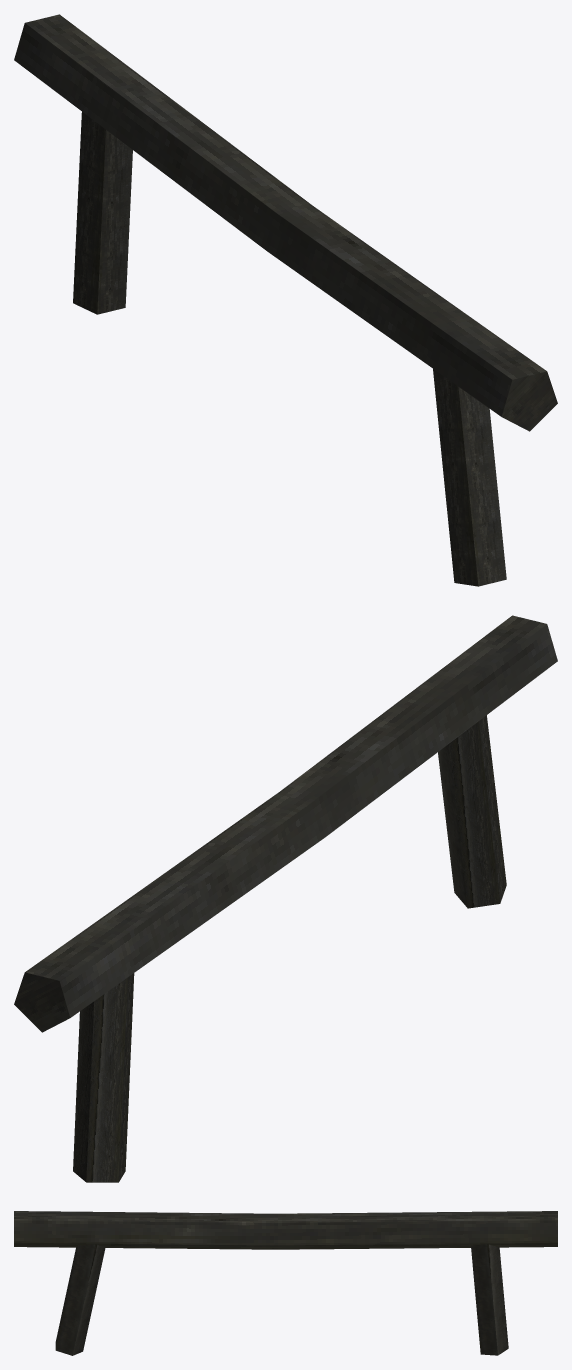
The model's file is fence.glb.
3 renders of one model, top to bottom at view 1: azimuth 30°, elevation 25°; view 2: azimuth 150°, elevation 25°; view 3: azimuth 270°, elevation 25°, orthographic. The views are drawn at different scales.
Visible parts, largest first — view 1: Cylinder.001; view 2: Cylinder.001; view 3: Cylinder.001.
Boxes of the visible parts, box(x1,y1,x2,y2) form: Cylinder.001: box(14, 14, 557, 586); Cylinder.001: box(14, 615, 557, 1182); Cylinder.001: box(14, 1211, 557, 1355).
Size of the model in its own units: 0.1702 by 0.694 by 2.52.
Materials: 1 (1 with a texture image).
